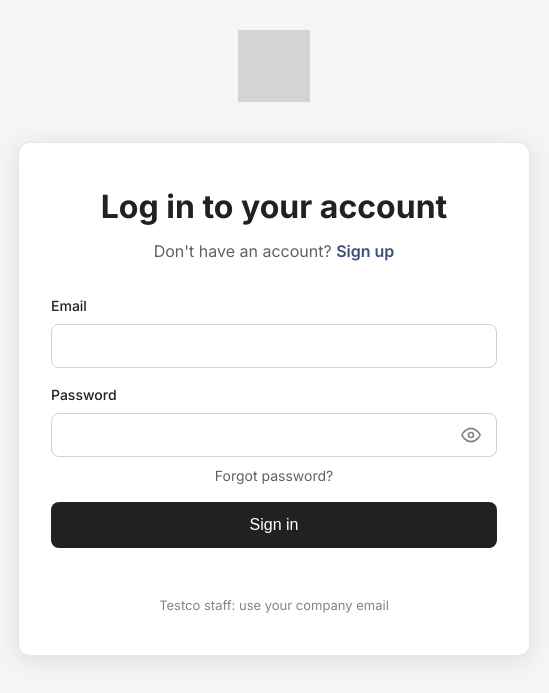
Login Page › shows validation error for short password
The width and height of the screenshot is (549, 693).
Type "test@example.com" into the field labelled "Email".
click(274, 346); type("test@example.com")  # box [51,324,497,368]
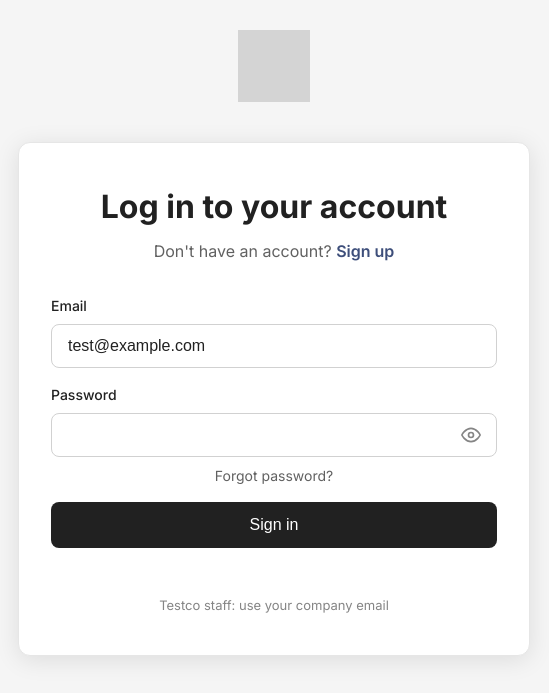
Type "short" into the password field labelled "Password".
click(274, 435); type("short")  # box [51,413,497,457]
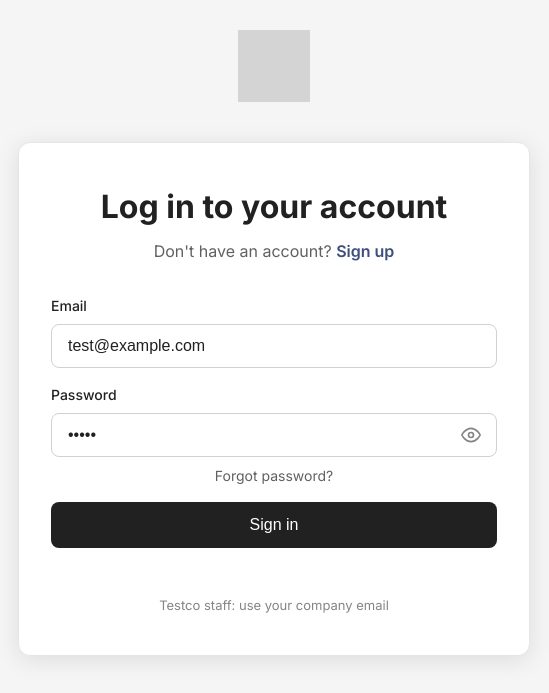
Click the button "Sign in".
click(274, 525)  # box [51,502,497,548]
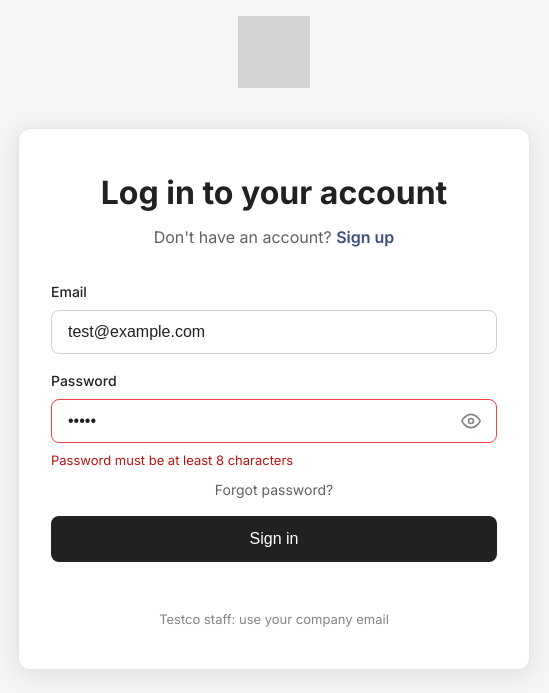
Now the text "Password must be at least 8 characters" is shown, box [51,452,293,468]
